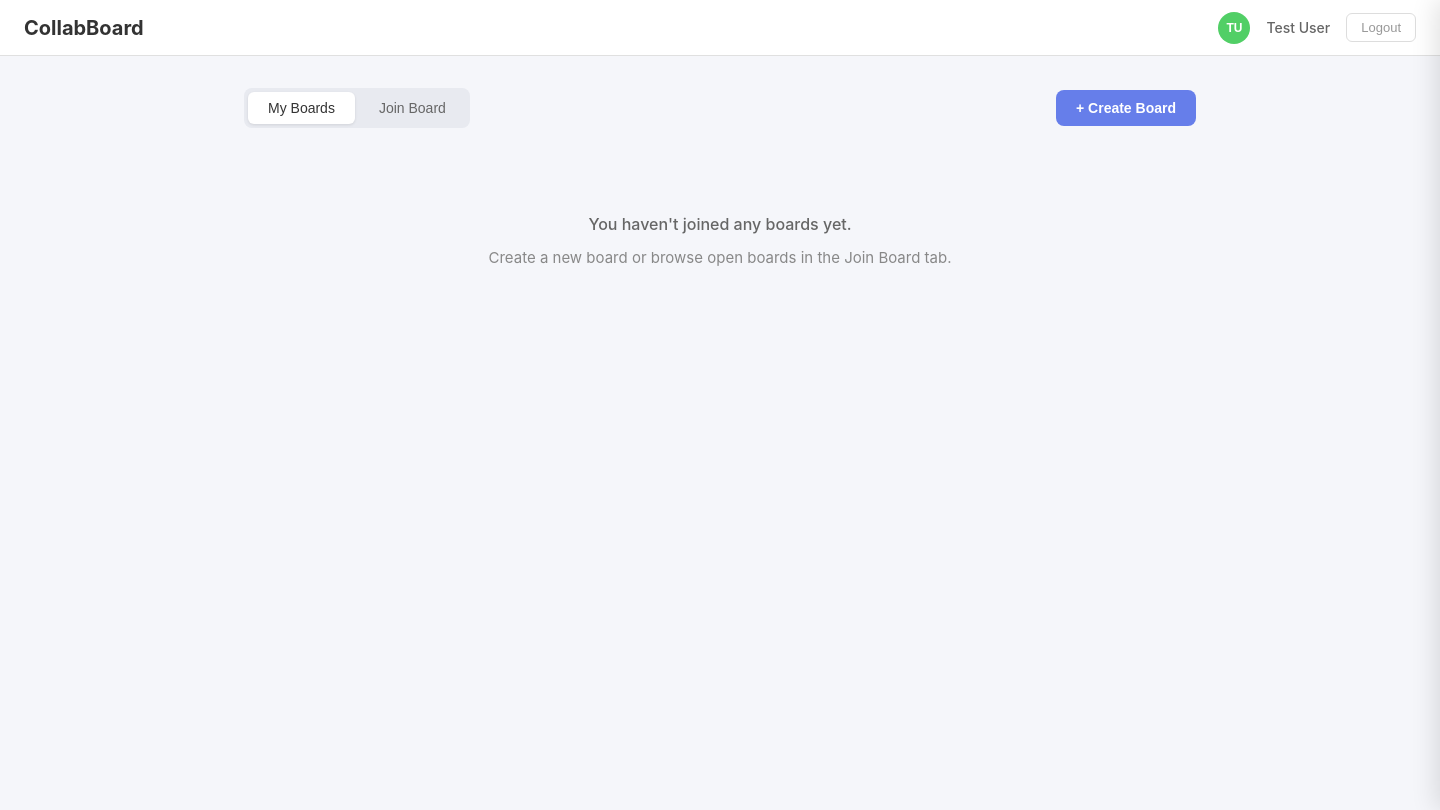
Dashboard › switches to Join Board tab and shows joinable boards
What coordinates should you click on to do the following:
click the button "Join Board"
I would click on:
 (412, 108)
Its box is [359,92,466,124].
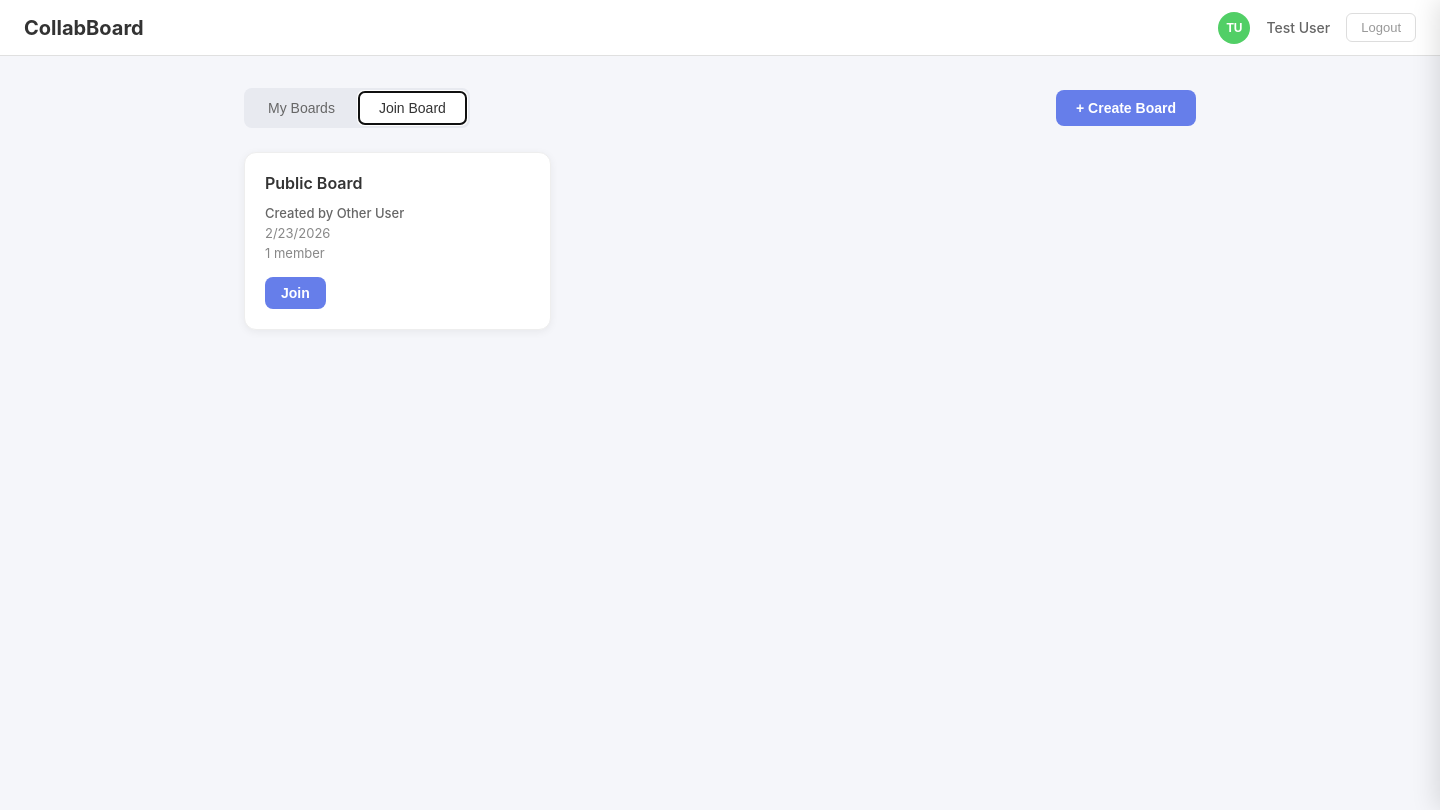
expect the button "Join" is shown: met, box [265,277,326,309]
expect the heading "Public Board" is shown: met, box [265,173,362,193]
